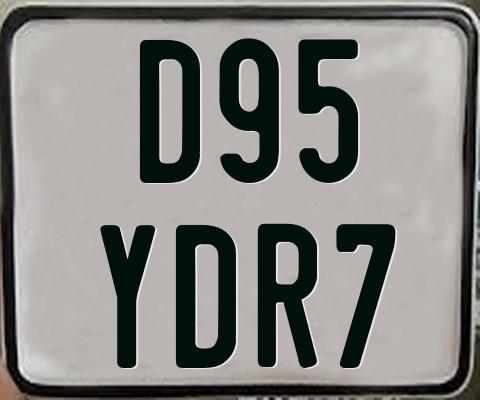5: (295, 38, 357, 182)
7: (334, 224, 396, 368)
9: (217, 38, 279, 184)
D: (175, 225, 238, 370), (139, 38, 202, 181)
R: (256, 222, 317, 372)
Y: (100, 223, 158, 368)
